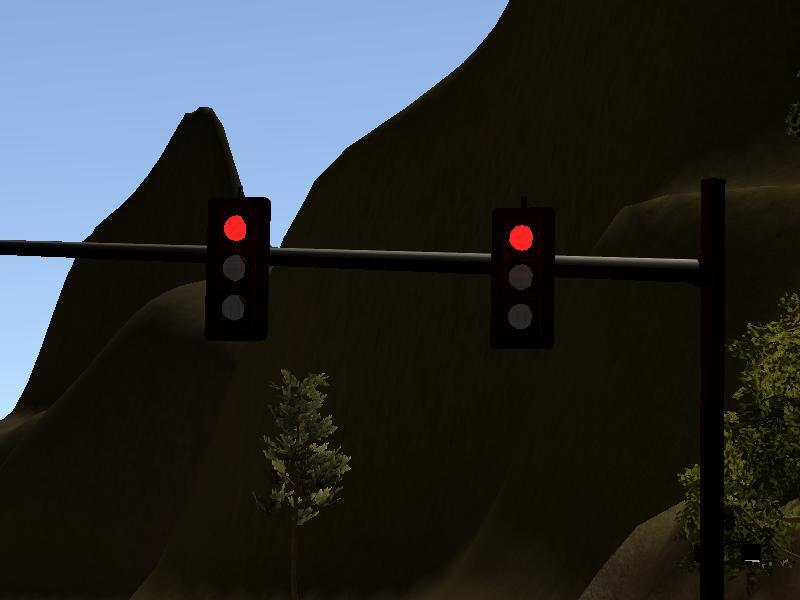Red: (488, 206, 553, 351), (204, 197, 269, 341)
